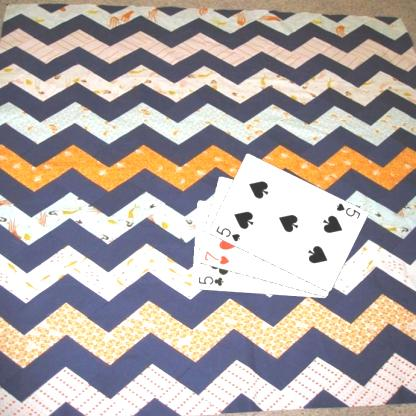5C: (196, 274, 224, 288)
5S: (333, 200, 362, 220), (213, 223, 241, 243)
7H: (201, 248, 231, 266)
